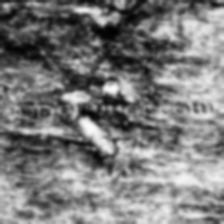Potentially Malignant Skin Tumors: (67, 116, 125, 160)
